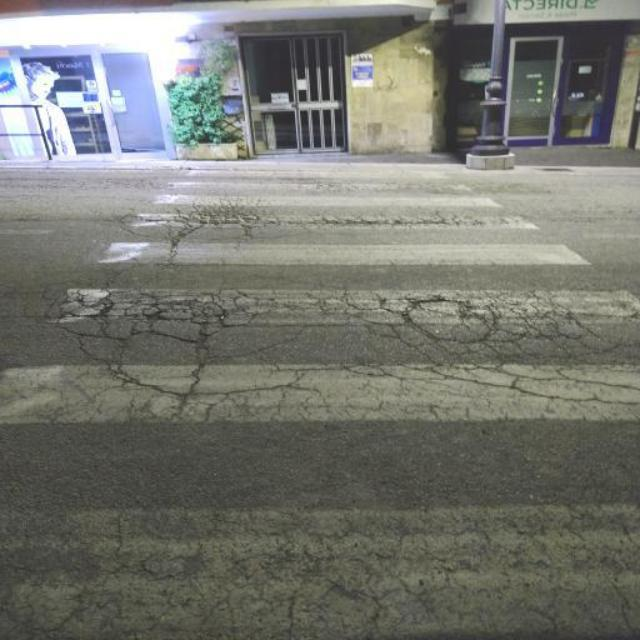sidewalk: (6, 161, 633, 639)
